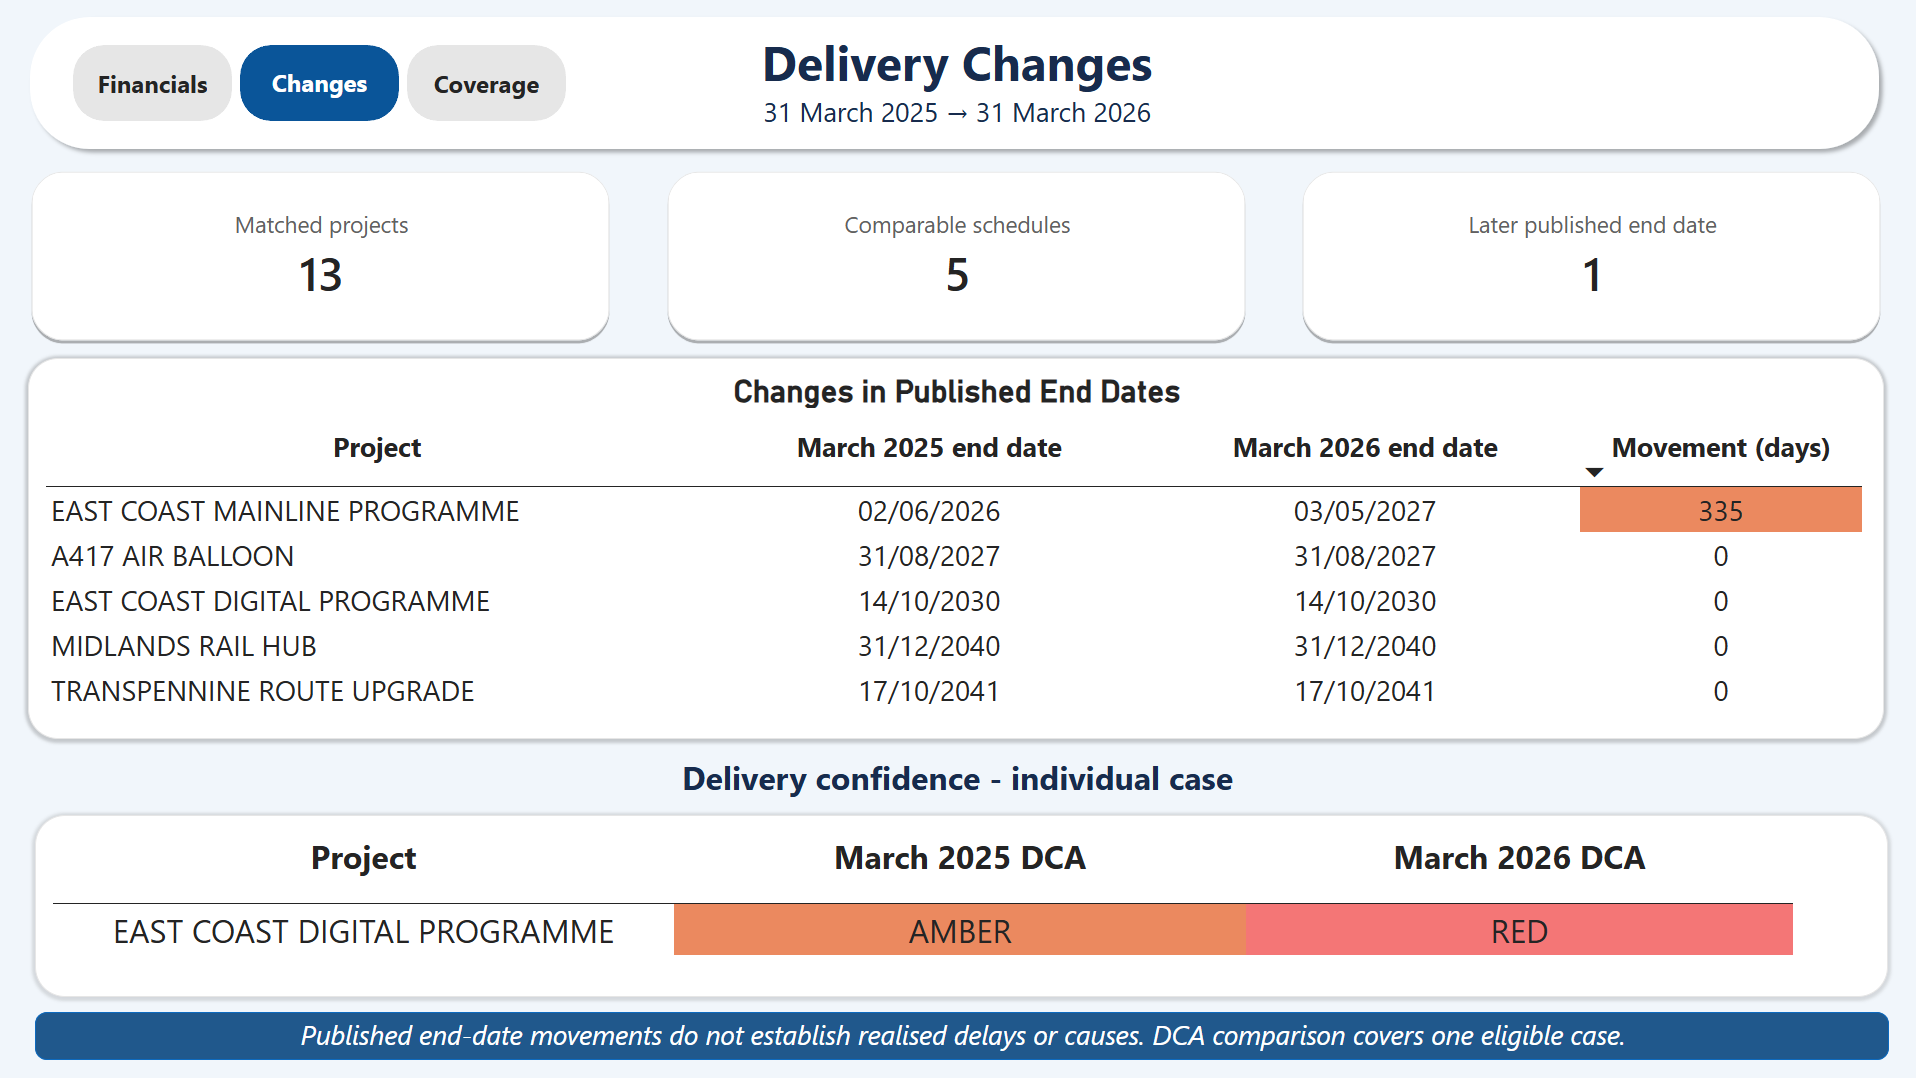

The page's visual inventory and layout, read from the dashboard file:
{"tool":"powerbi","page":{"name":"Changes","canvas":[1920,1080],"ordinal":1},"visuals":[{"type":"shape","box":[37,1014,1854,48],"z":1000},{"type":"shape","box":[23.3,10,1866.7,150],"z":2000},{"type":"textbox","box":[758,31,402,107],"z":3000},{"type":"cardVisual","fields":{"Data":["_Measures.Schedule Eligible Pairs"]},"box":[666,170,585,176],"z":4000},{"type":"cardVisual","fields":{"Data":["_Measures.Schedule Later"]},"box":[1301,170,585,176],"z":5000},{"type":"tableEx","title":"Changes in Published End Dates","fields":{"Values":["SchedulePairs.new_project_name","SchedulePairs.old_end_date","SchedulePairs.new_end_date","SchedulePairs.end_date_movement_days"]},"box":[30,360,1856,381],"z":6000},{"type":"cardVisual","fields":{"Data":["_Measures.Confirmed Pairs"]},"box":[30,170,585,176],"z":7000},{"type":"textbox","box":[684,757,560,45],"z":8000},{"type":"tableEx","fields":{"Values":["DcaPairs.new_project_name","DcaPairs.old_rating_compared","DcaPairs.new_rating_compared"]},"box":[37,817,1853,182],"z":9000},{"type":"textbox","box":[275,1018,1380,40],"z":10000},{"type":"pageNavigator","box":[75,46.7,495,76.7],"z":11000}]}

Visuals, with their boxes in screenshot pixels (x1, y1, x2, y2), scaled from the page's 1920x1080 canvas onto the 1916x1078 screenshot:
shape: crop(37, 1012, 1887, 1060)
shape: crop(23, 10, 1886, 160)
textbox: crop(756, 31, 1158, 138)
cardVisual - _Measures.Schedule Eligible Pairs: crop(665, 170, 1248, 345)
cardVisual - _Measures.Schedule Later: crop(1298, 170, 1882, 345)
"Changes in Published End Dates" tableEx: crop(30, 359, 1882, 740)
cardVisual - _Measures.Confirmed Pairs: crop(30, 170, 614, 345)
textbox: crop(683, 756, 1241, 801)
tableEx - DcaPairs.new_project_name x DcaPairs.old_rating_compared: crop(37, 815, 1886, 997)
textbox: crop(274, 1016, 1652, 1056)
pageNavigator: crop(75, 47, 569, 123)
